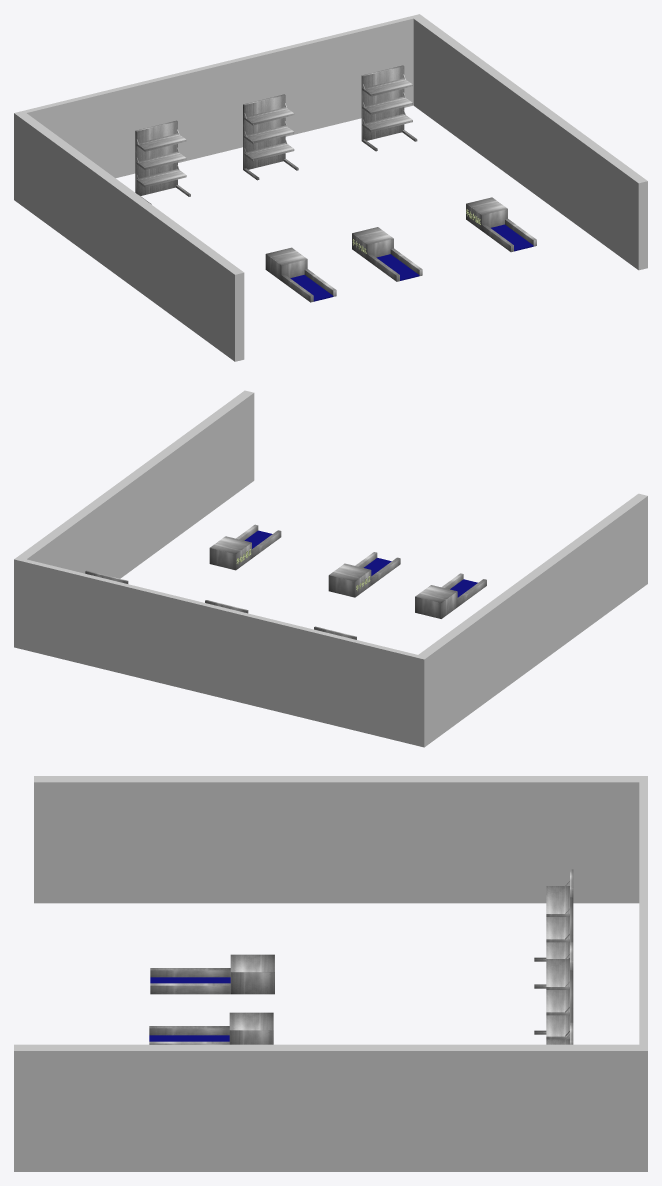
The model's file is asd.obj.
The picture shows the model from 3 angles, top to bottom: view 1: azimuth 30°, elevation 25°; view 2: azimuth 150°, elevation 25°; view 3: azimuth 270°, elevation 25°; orthographic projection. The views are drawn at different scales.
Visible parts, largest first — view 1: Line025, Box003, Box002, Box001, Rectangle020, Rectangle031, Rectangle027; view 2: Line025, Rectangle031, Rectangle020, Rectangle027; view 3: Line025, Rectangle020, Rectangle031, Rectangle022, Rectangle023, Rectangle030, Rectangle013, Rectangle005, Rectangle006, Rectangle012, Rectangle011, Rectangle021 (+1 smaller).
Boxes of the visible parts, box(x1,y1,x2,y2) form: Line025: box(14, 14, 647, 361); Box003: box(361, 65, 404, 141); Box002: box(243, 94, 285, 170); Box001: box(135, 120, 177, 195); Rectangle020: box(265, 247, 307, 280); Rectangle031: box(352, 227, 393, 260); Rectangle027: box(466, 197, 507, 230); Line025: box(14, 390, 647, 747); Rectangle031: box(328, 563, 371, 597); Rectangle020: box(415, 585, 457, 618); Rectangle027: box(209, 536, 251, 570); Line025: box(14, 776, 647, 1171); Rectangle020: box(230, 954, 274, 994); Rectangle031: box(229, 1012, 273, 1044); Rectangle022: box(150, 983, 230, 994); Rectangle023: box(150, 968, 230, 977); Rectangle030: box(149, 1026, 229, 1035); Rectangle013: box(546, 959, 569, 989); Rectangle005: box(546, 886, 569, 916); Rectangle006: box(546, 917, 569, 942); Rectangle012: box(546, 990, 569, 1015); Rectangle011: box(546, 1015, 569, 1039); Rectangle021: box(150, 977, 230, 983).
Size of the model in its own units: 109 by 22.26 by 106.
